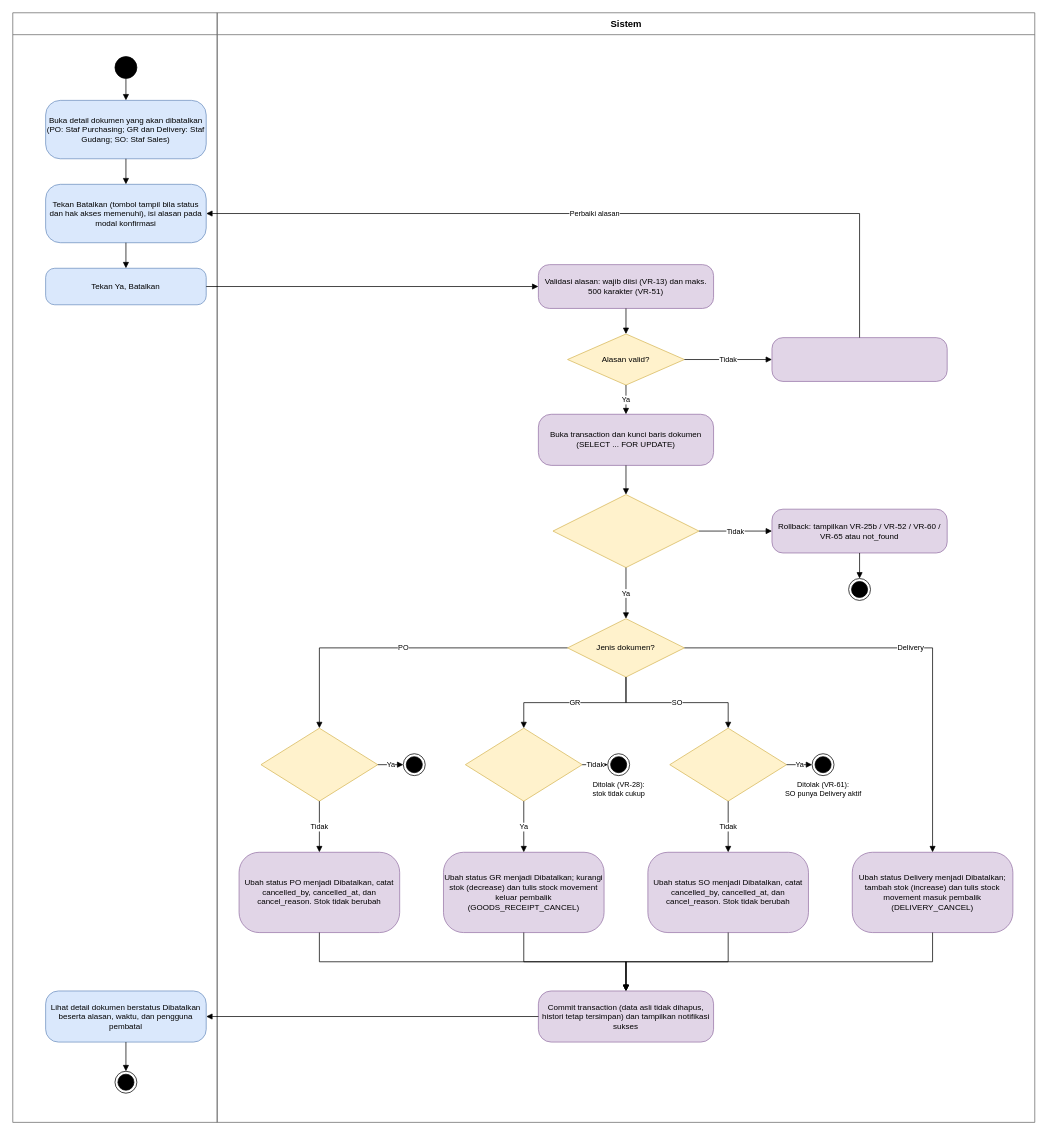
The diagram is 1048 pixels wide and 1135 high, and some of its shapes have lost their labels. The box of each missing label's shape, as (x1, y1, x2, y2) in pixels:
Ada Delivery aktif untuk SO ini?: (669, 727, 787, 801)
Ada GR aktif untuk PO ini?: (260, 727, 378, 801)
Ditolak (VR-27): PO punya GR aktif: (403, 753, 425, 776)
Dokumen ada dan status sesuai?: (552, 494, 699, 568)
Pembatalan ditolak: (848, 578, 871, 600)
Staf (Purchasing / Gudang / Sales): (12, 12, 217, 1122)
Stok saat ini cukup untuk dikurangi?: (465, 727, 582, 801)
Tampilkan pesan error, isian alasan dipertahankan: (771, 337, 947, 381)
